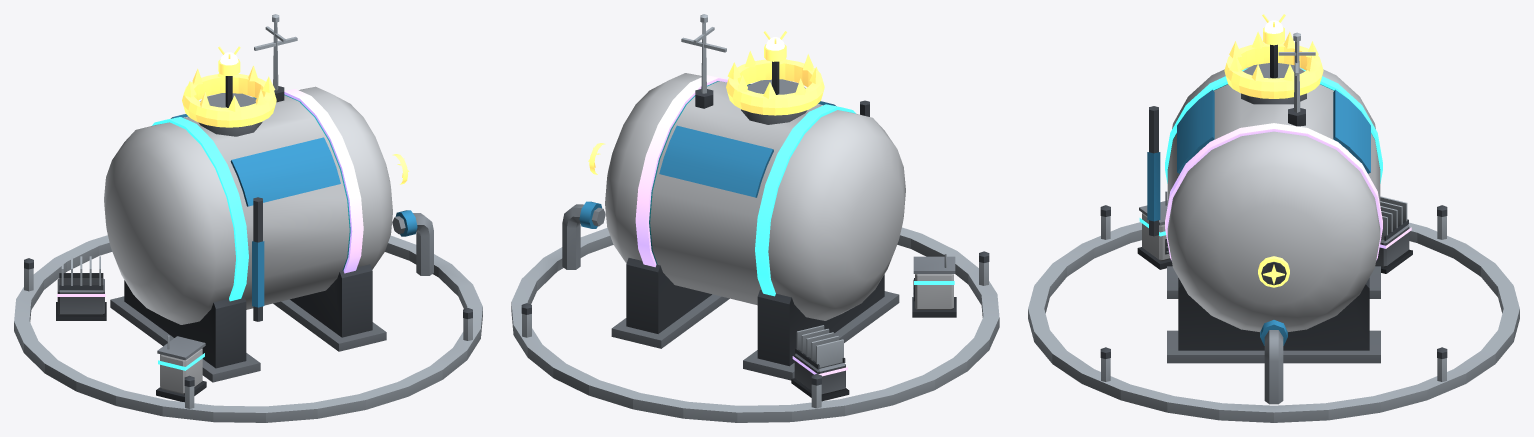
The model's file is reservoir_s.glb.
The picture shows the model from 3 angles, left to right: view 1: azimuth 30°, elevation 25°; view 2: azimuth 150°, elevation 25°; view 3: azimuth 270°, elevation 25°; orthographic projection. The views are drawn at different scales.
Visible parts, largest first — view 1: Base, L2, L4, L3, L5; view 2: Base, L2, L4, L3, L5; view 3: Base, L2, L5, L4, L3.
Boxes of the visible parts, left/top/right/bottom form: Base: left=104, top=86, right=433, bottom=382; L2: left=14, top=14, right=482, bottom=422; L4: left=56, top=89, right=363, bottom=320; L3: left=152, top=117, right=248, bottom=402; L5: left=182, top=46, right=409, bottom=184; Base: left=562, top=73, right=905, bottom=380; L2: left=511, top=14, right=999, bottom=422; L4: left=635, top=75, right=849, bottom=401; L3: left=755, top=104, right=956, bottom=317; L5: left=588, top=31, right=824, bottom=174; Base: left=1147, top=63, right=1380, bottom=404; L2: left=1028, top=32, right=1519, bottom=422; L5: left=1224, top=14, right=1323, bottom=287; L4: left=1165, top=123, right=1412, bottom=273; L3: left=1137, top=68, right=1382, bottom=269.
Size of the model in its own units: 4.26 by 2.93 by 4.26.
